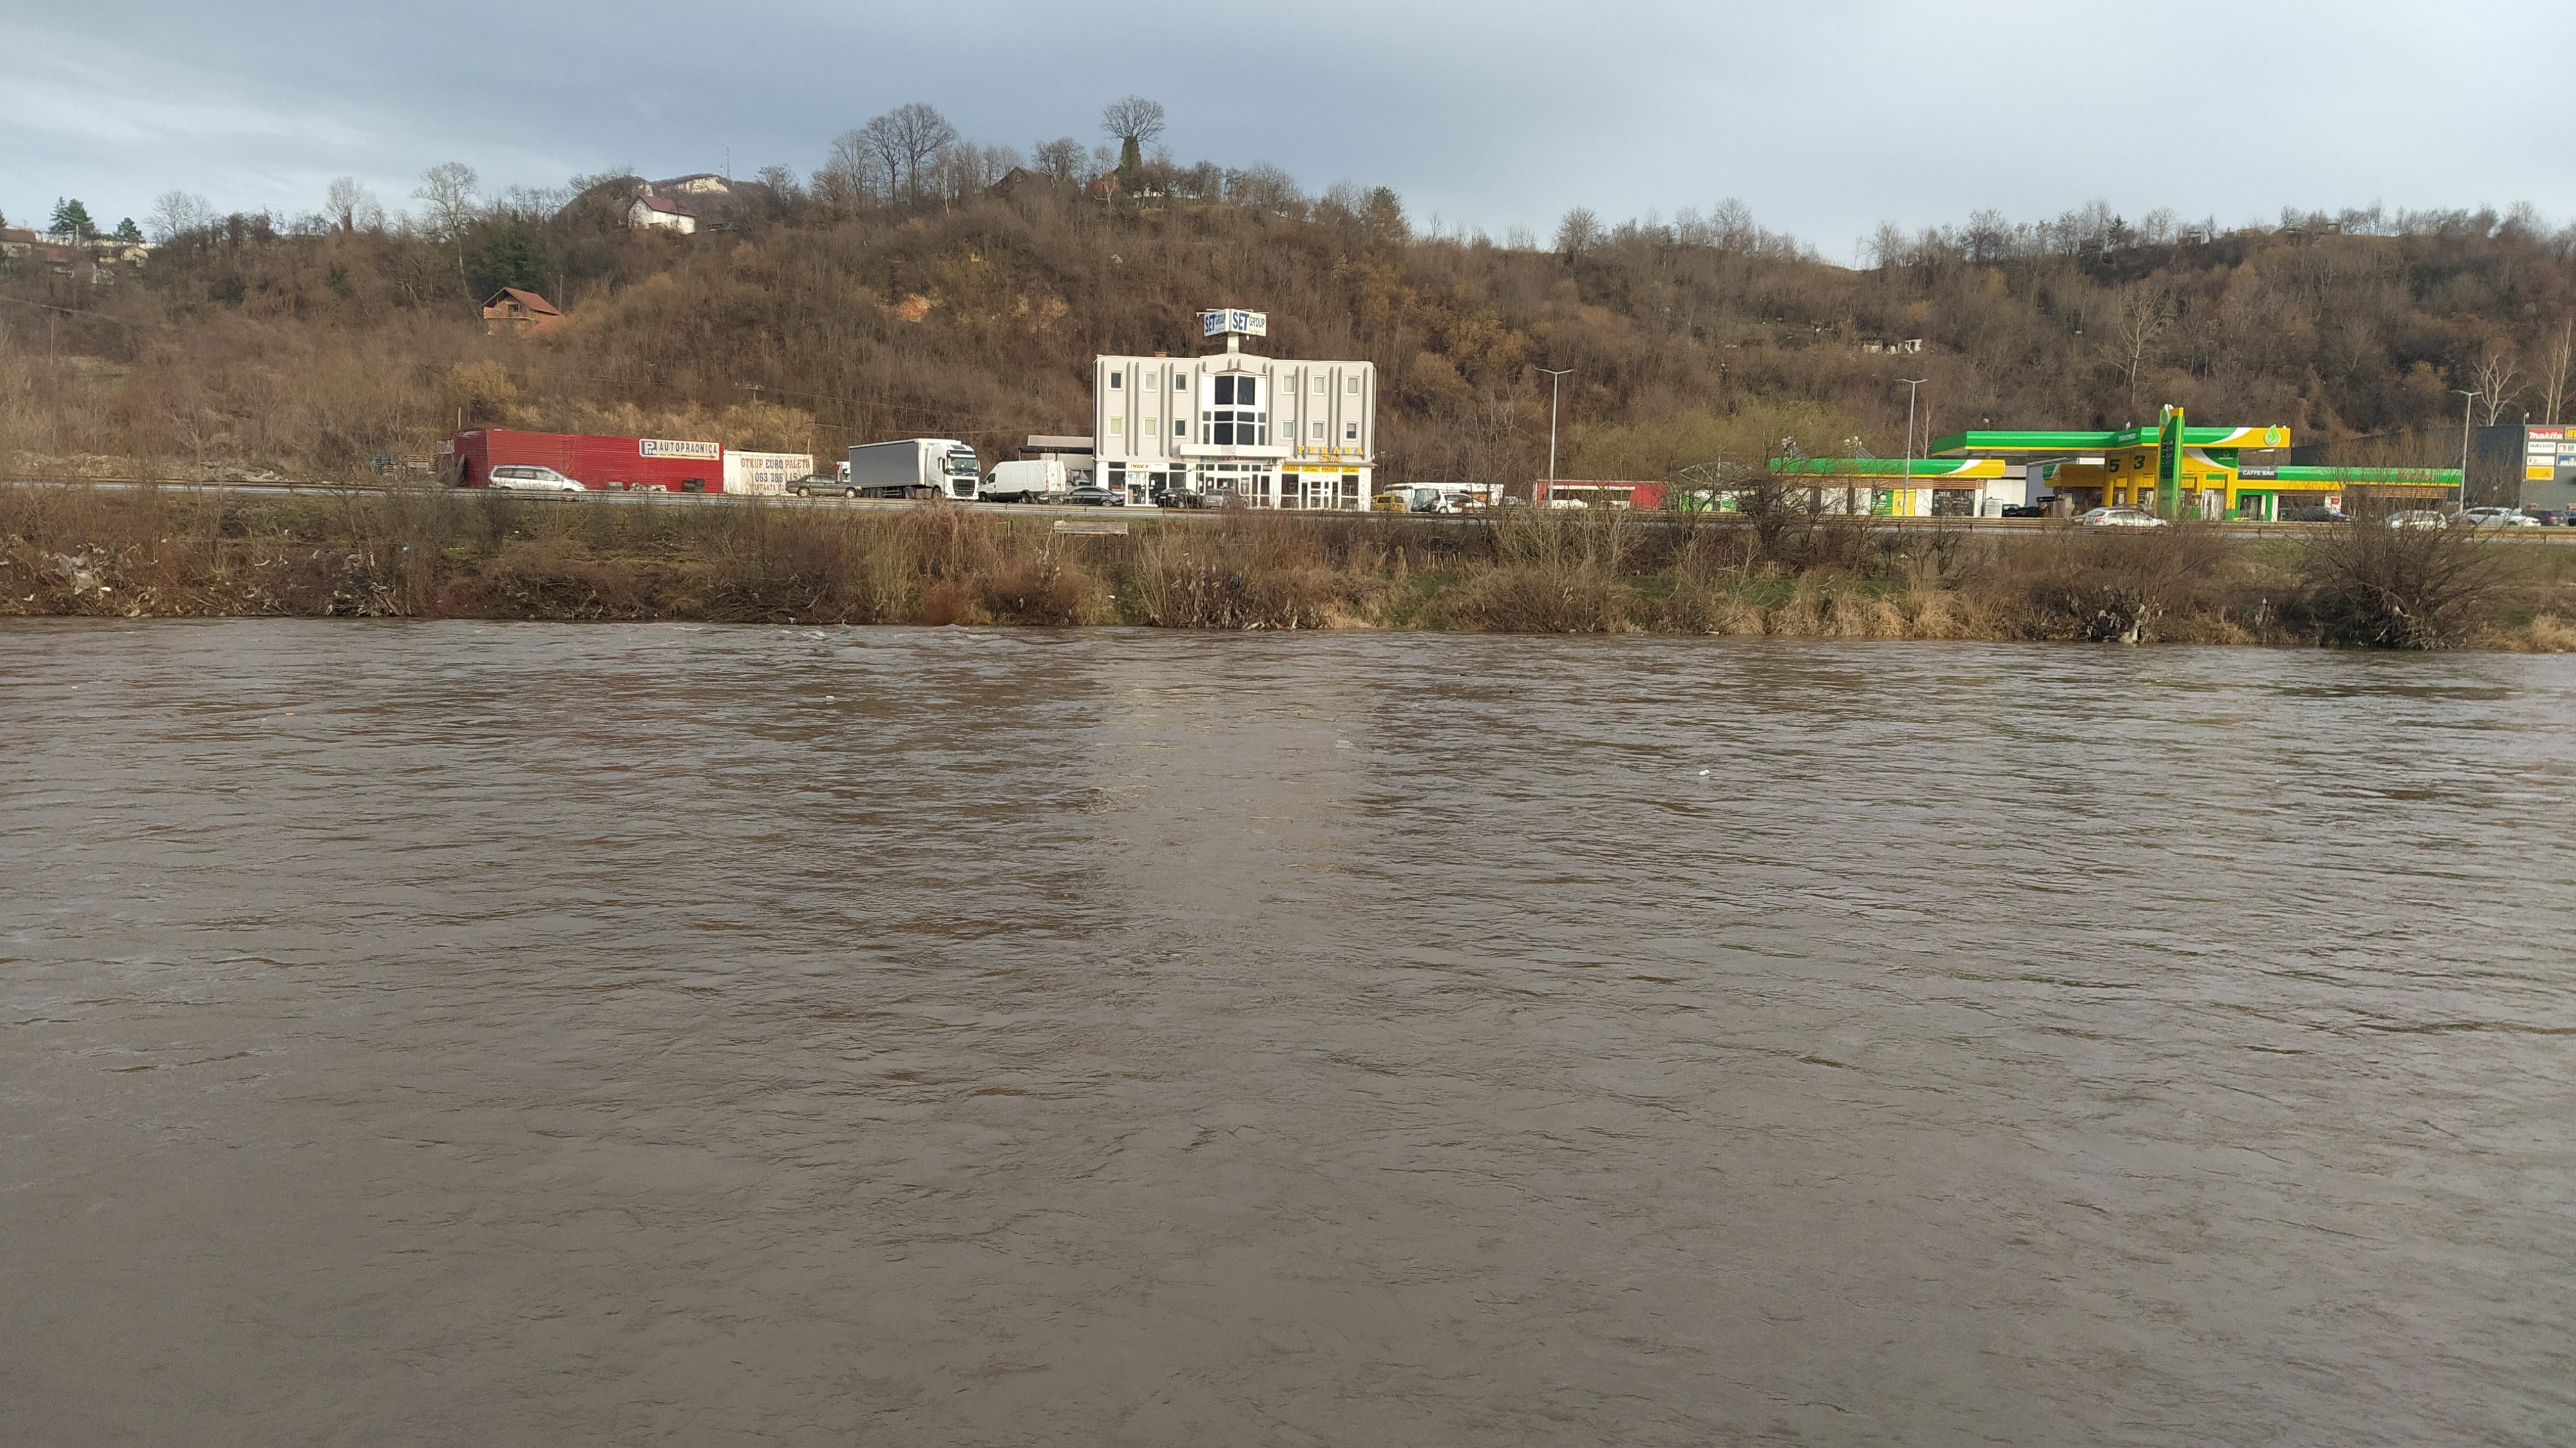Plastic Bottle: (1336, 740, 1352, 749), (1698, 768, 1709, 775), (840, 630, 849, 634), (826, 696, 835, 699), (71, 685, 76, 689)
